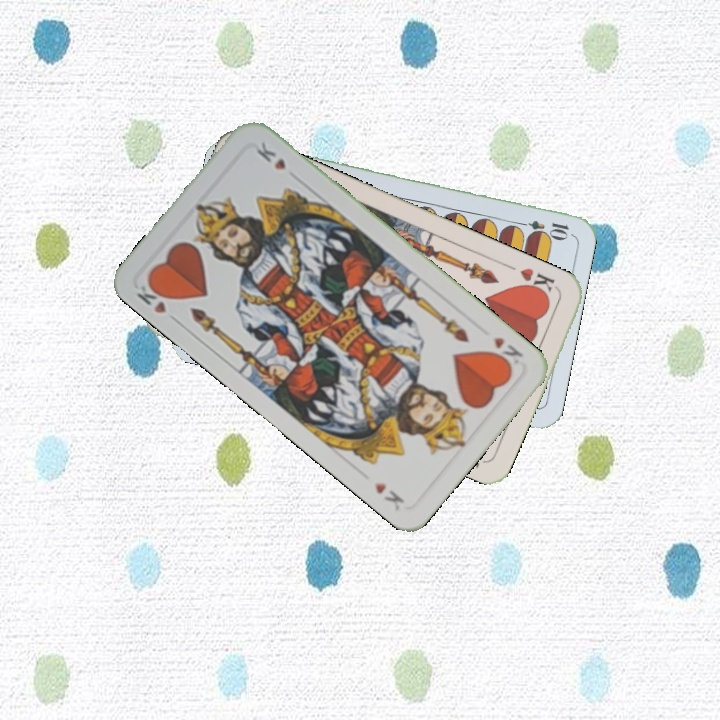E10: (512, 216, 571, 239)
HK: (132, 276, 182, 326), (516, 263, 561, 300), (486, 332, 526, 371)
